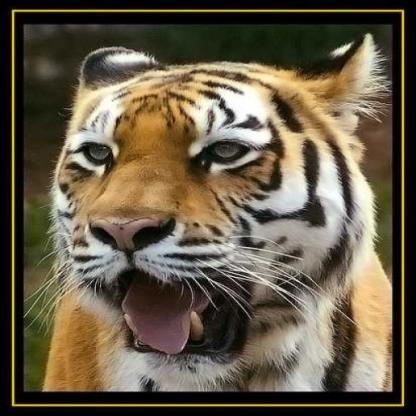Tiger: (46, 23, 383, 375)
